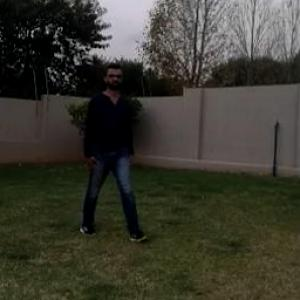follow: (93, 63, 131, 217)
